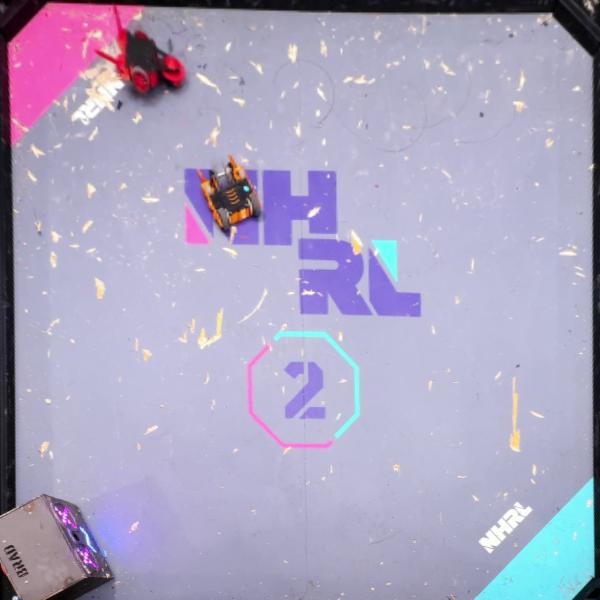housebot: (0, 494, 117, 600)
robot: (94, 5, 186, 98), (195, 152, 263, 233)
